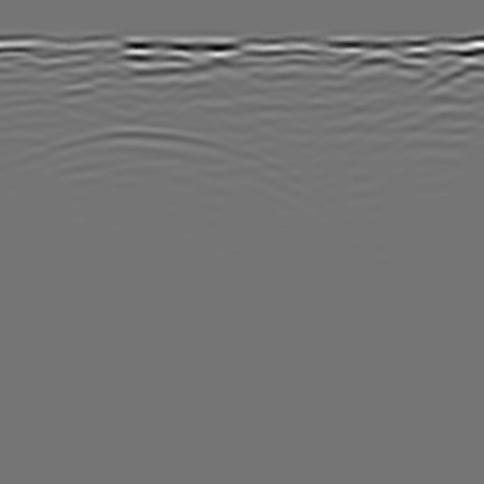hyperbola: (9, 116, 287, 213)
